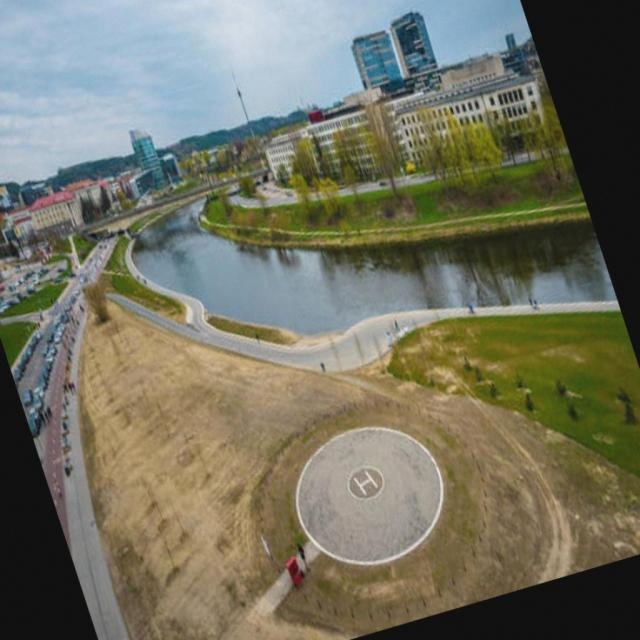helipad: (346, 464, 384, 500)
